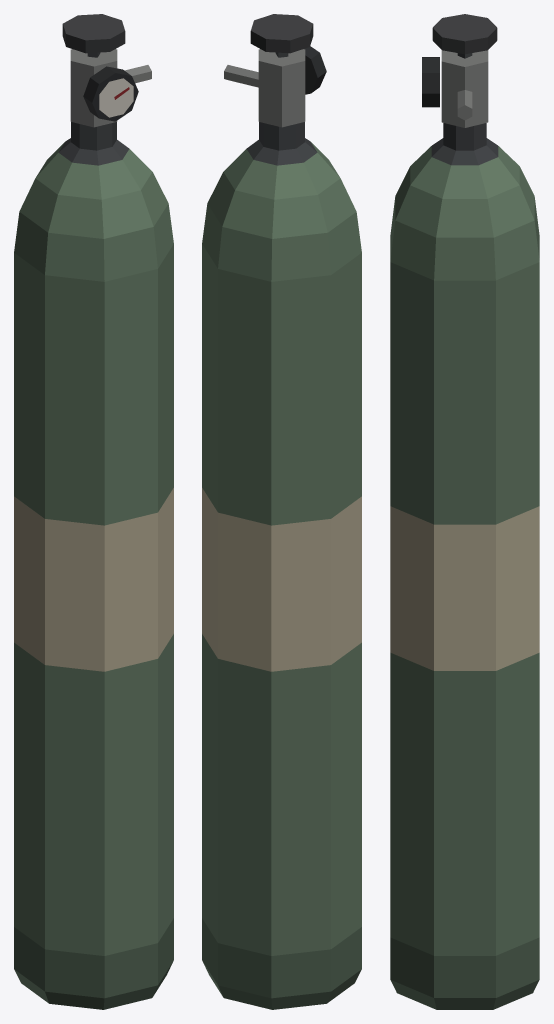
Rendered from tl_prop_oxygen_cylinder_green_v01.glb.
The picture shows the model from 3 angles, left to right: view 1: azimuth 30°, elevation 25°; view 2: azimuth 150°, elevation 25°; view 3: azimuth 270°, elevation 25°; orthographic projection.
Visible parts, largest first — view 1: tl_prop_oxygen_cylinder_green_v01; view 2: tl_prop_oxygen_cylinder_green_v01; view 3: tl_prop_oxygen_cylinder_green_v01.
Part boxes in pixels (box(x1,y1,x2,y2)): tl_prop_oxygen_cylinder_green_v01: box(14, 14, 173, 1009); tl_prop_oxygen_cylinder_green_v01: box(202, 14, 361, 1009); tl_prop_oxygen_cylinder_green_v01: box(390, 14, 539, 1009).
Size of the model in its own units: 0.1663 by 1.17 by 0.1663.
